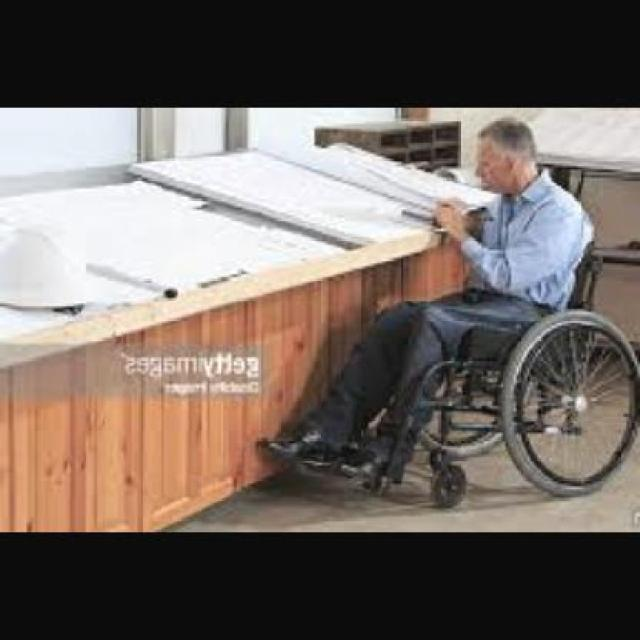wheelchairs: (257, 232, 640, 510)
